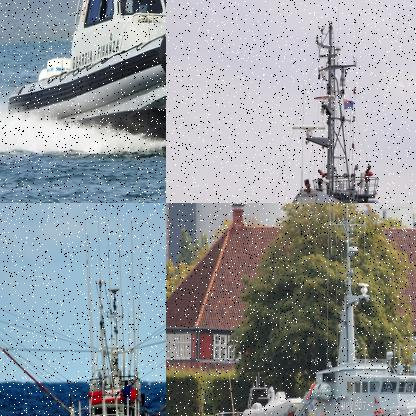Fishing Boat: (0, 207, 165, 415)
Military Ship: (217, 20, 415, 202)
Patrol Boat: (211, 203, 415, 415), (8, 0, 165, 155)
